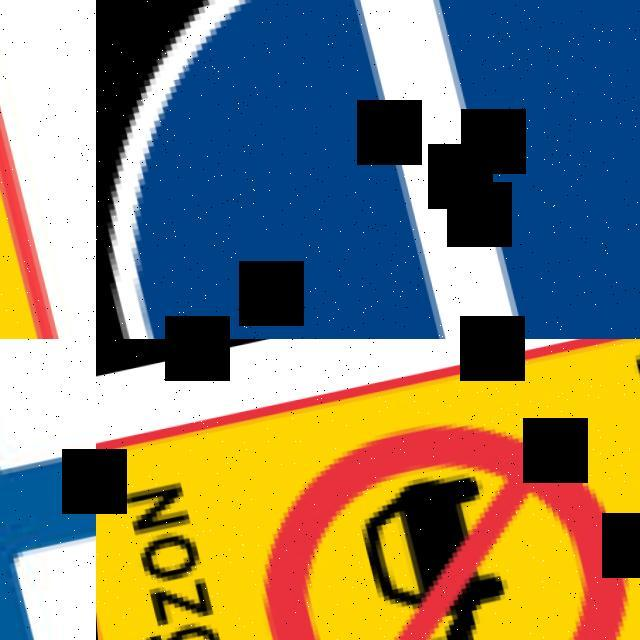181: (0, 0, 96, 339)
69: (0, 339, 96, 640)
70: (96, 339, 640, 640)
Turn left: (96, 0, 640, 339)
